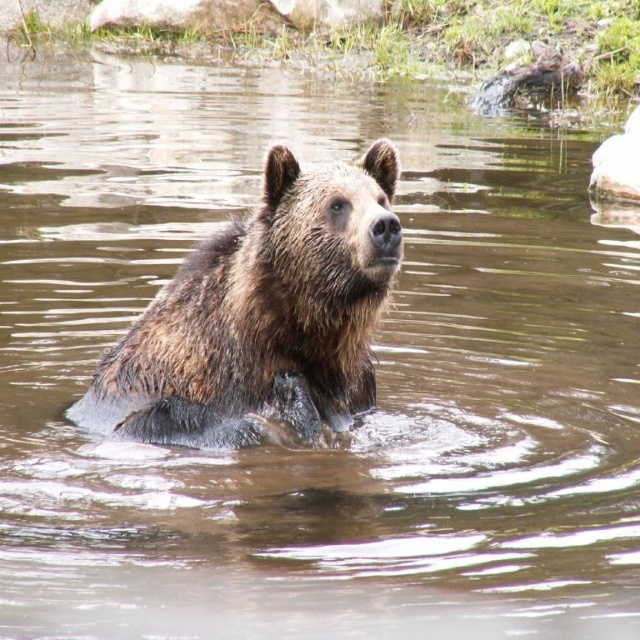Brown bear: (64, 133, 406, 458)
